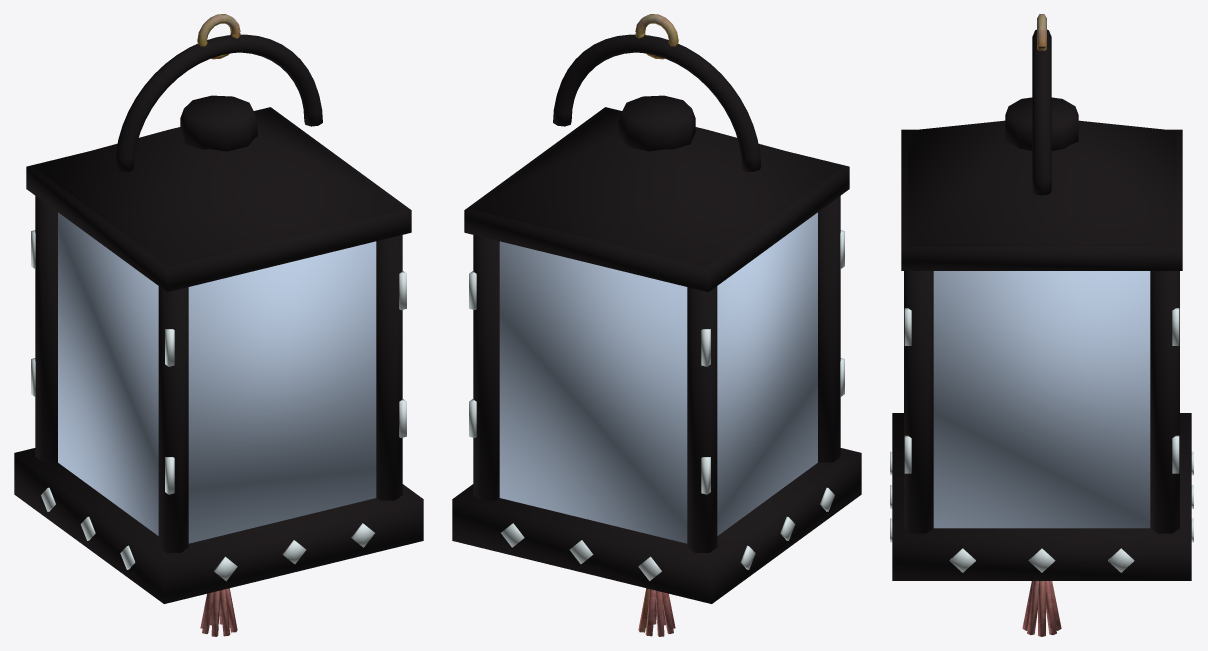
The model's file is lantern_raden.glb.
The picture shows the model from 3 angles, left to right: view 1: azimuth 30°, elevation 25°; view 2: azimuth 150°, elevation 25°; view 3: azimuth 270°, elevation 25°; orthographic projection.
Parts seen in each view (by area): view 1: prop_lantern_raden_lacquer, prop_lantern_raden_glass, prop_lantern_raden_shell, prop_lantern_raden_felt; view 2: prop_lantern_raden_lacquer, prop_lantern_raden_glass, prop_lantern_raden_shell, prop_lantern_raden_felt; view 3: prop_lantern_raden_lacquer, prop_lantern_raden_glass, prop_lantern_raden_shell, prop_lantern_raden_felt.
Part boxes in pixels (bbox=[...]): prop_lantern_raden_lacquer: bbox=[14, 34, 423, 603]; prop_lantern_raden_glass: bbox=[58, 212, 376, 543]; prop_lantern_raden_shell: bbox=[31, 230, 406, 581]; prop_lantern_raden_felt: bbox=[197, 14, 240, 636]; prop_lantern_raden_lacquer: bbox=[452, 34, 861, 603]; prop_lantern_raden_glass: bbox=[499, 212, 817, 543]; prop_lantern_raden_shell: bbox=[469, 230, 844, 581]; prop_lantern_raden_felt: bbox=[635, 14, 678, 636]; prop_lantern_raden_lacquer: bbox=[892, 29, 1191, 580]; prop_lantern_raden_glass: bbox=[933, 271, 1150, 528]; prop_lantern_raden_shell: bbox=[890, 308, 1193, 572]; prop_lantern_raden_felt: bbox=[1022, 14, 1061, 636].
Size of the model in its own units: 0.1726 by 0.3848 by 0.1726.
Materials: 6 (2 with a texture image).
